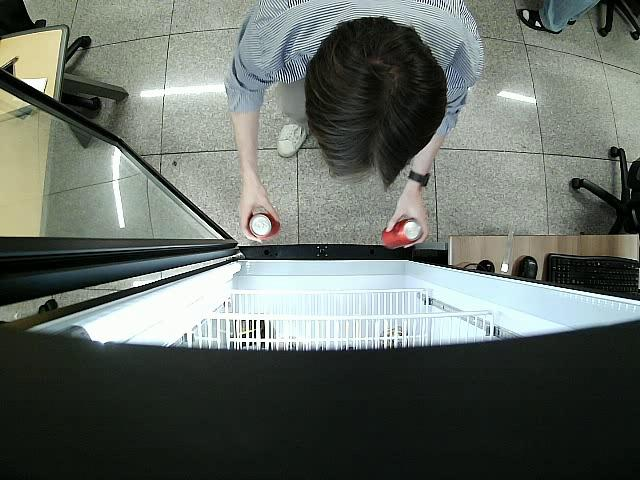00_hand: (237, 185, 279, 242), (388, 204, 430, 249)
11_cocaColaZero: (382, 219, 421, 249), (247, 212, 280, 236)
